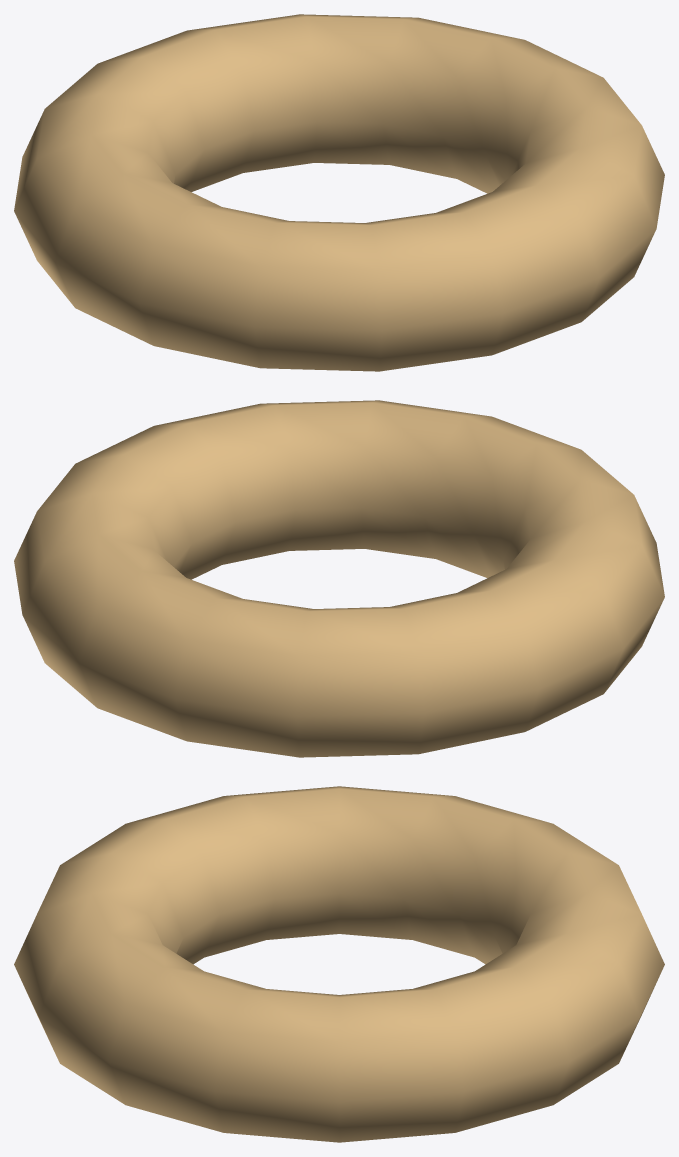
The model's file is rope-coil.gltf.
3 views of the same model, one above another, from view 1: azimuth 30°, elevation 25°; view 2: azimuth 150°, elevation 25°; view 3: azimuth 270°, elevation 25° (orthographic).
Visible parts, largest first — view 1: Coil; view 2: Coil; view 3: Coil.
Part boxes in pixels (x1,y1,x2,y2): Coil: [14, 14, 664, 371]; Coil: [14, 400, 664, 757]; Coil: [14, 786, 664, 1142].
Bounding box in the file's own units: 0.58 × 0.14 × 0.58.
